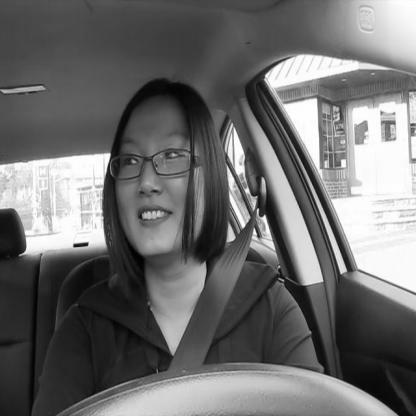seatbelt: (79, 49, 276, 373)
